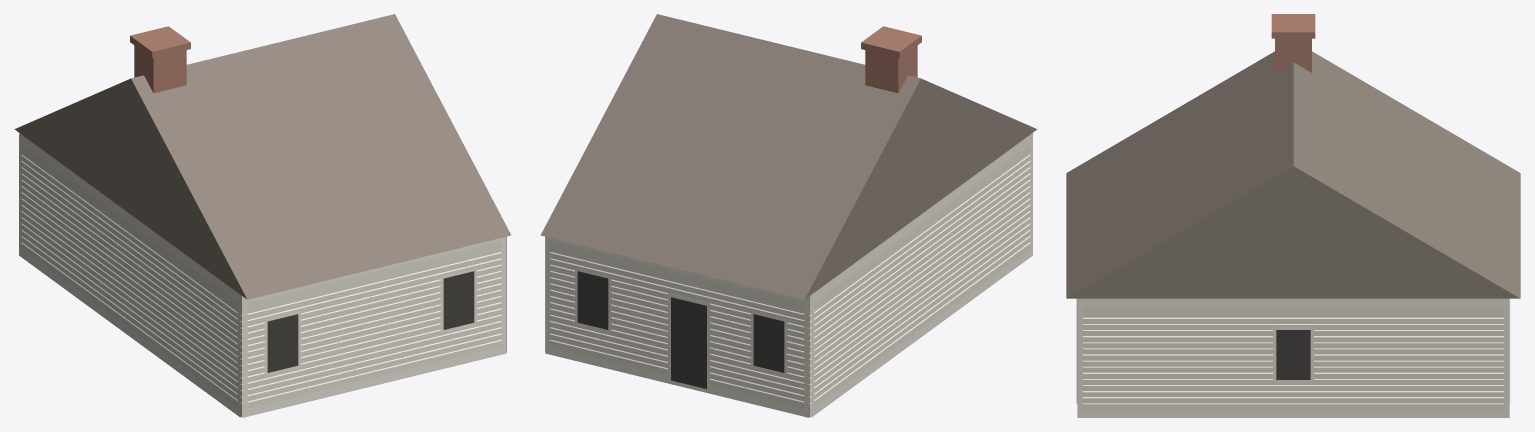
File: recon_1835_west_018__inferred_1835.glb
3 views of the same model, side by side, from view 1: azimuth 30°, elevation 25°; view 2: azimuth 150°, elevation 25°; view 3: azimuth 270°, elevation 25° (orthographic). The views are drawn at different scales.
Visible parts, largest first — view 1: recon_1835_west_018__inferred_1835; view 2: recon_1835_west_018__inferred_1835; view 3: recon_1835_west_018__inferred_1835.
Part boxes in pixels (left/top/right/bottom): recon_1835_west_018__inferred_1835: left=14, top=14, right=511, bottom=417; recon_1835_west_018__inferred_1835: left=540, top=14, right=1037, bottom=417; recon_1835_west_018__inferred_1835: left=1066, top=14, right=1520, bottom=417.
Bounding box in the file's own units: 6.79 × 7.04 × 10.25.
